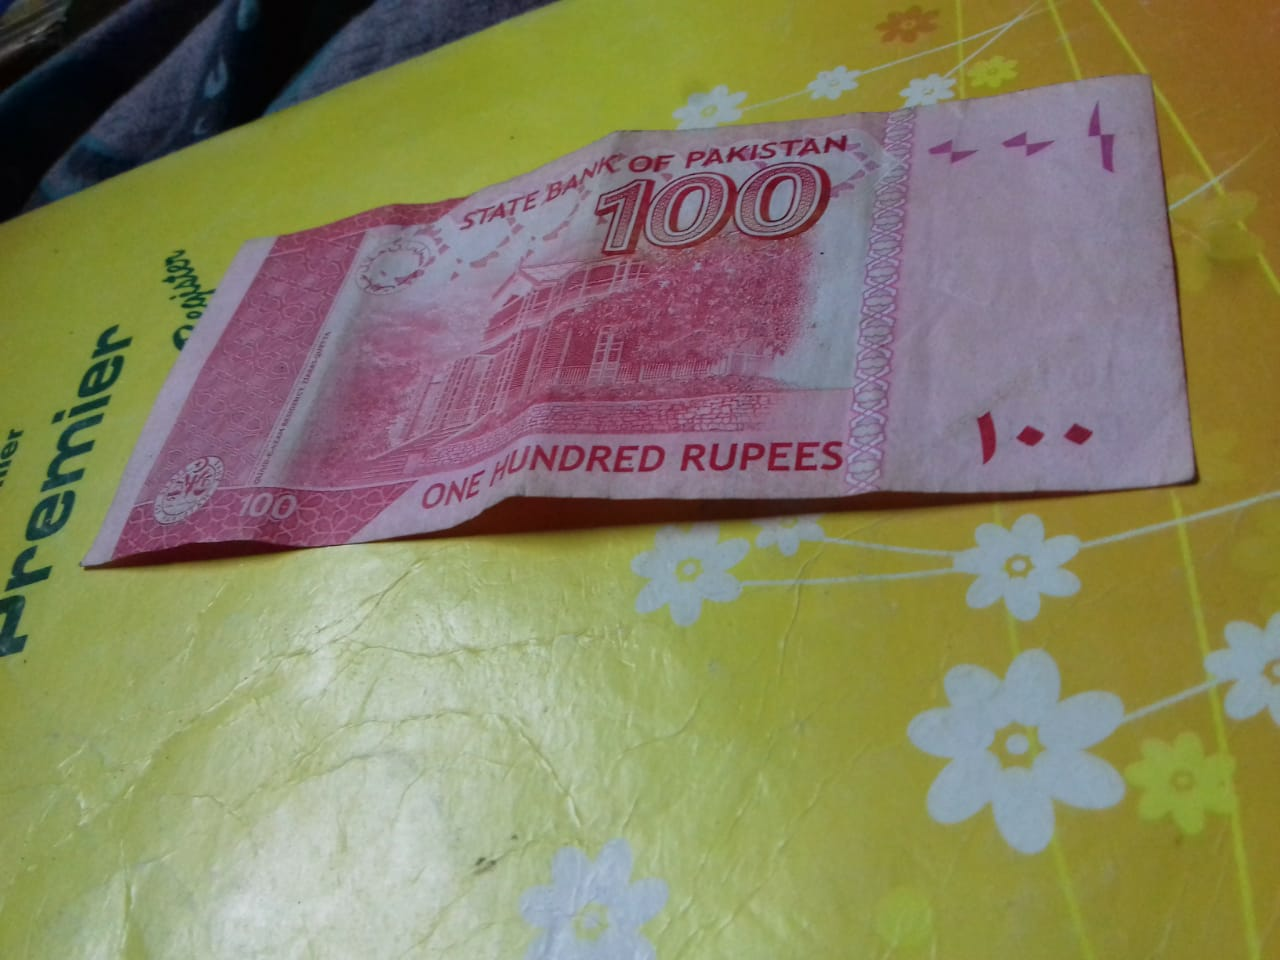100 rupee: (84, 61, 1187, 592)
